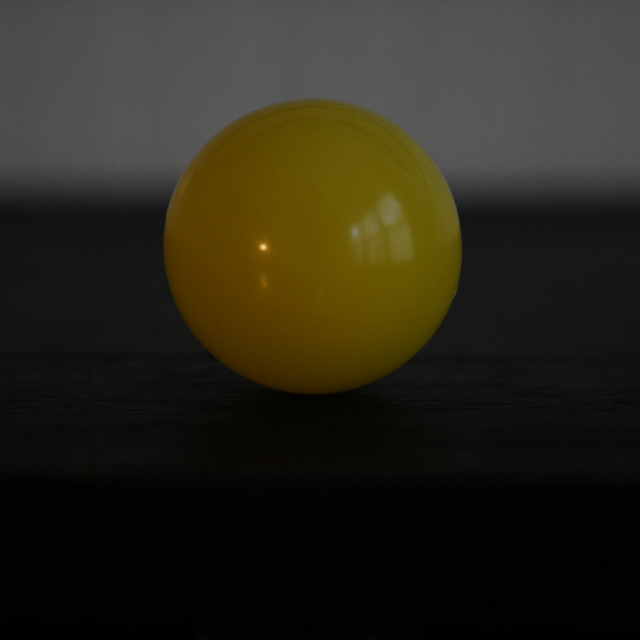Ball: (162, 106, 465, 394)
